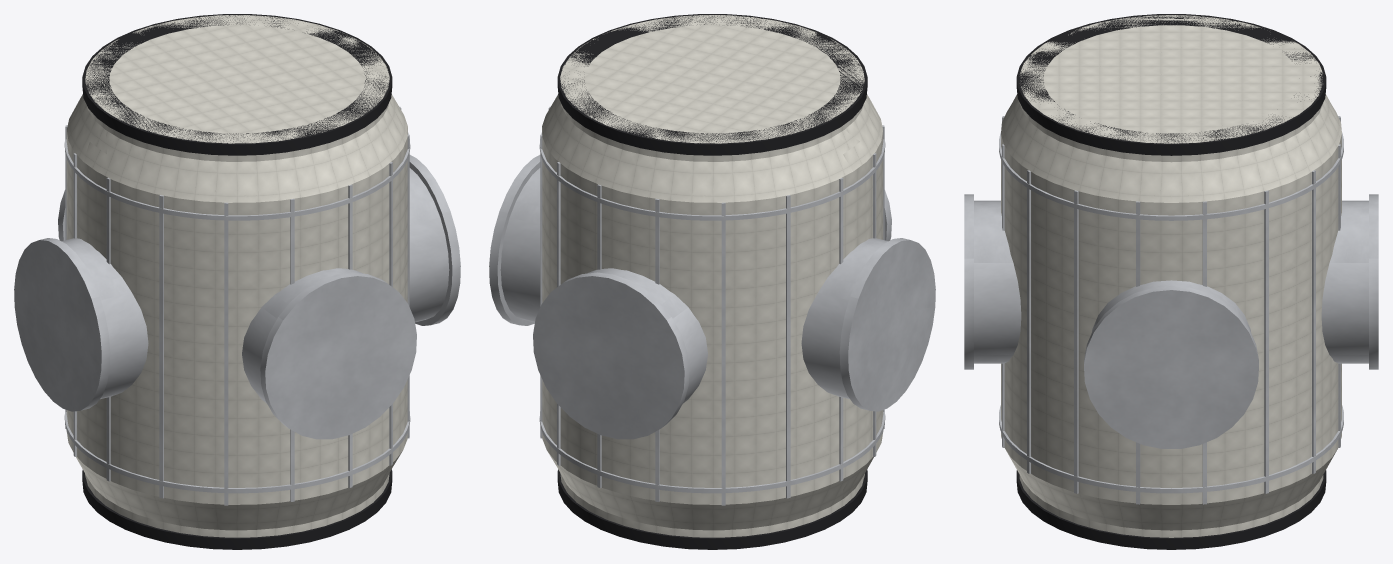
Rendered from station03_node_6port.glb.
The picture shows the model from 3 angles, left to right: view 1: azimuth 30°, elevation 25°; view 2: azimuth 150°, elevation 25°; view 3: azimuth 270°, elevation 25°; orthographic projection.
Visible parts, largest first — view 1: pressure_hull, radial_ports, end_rings, mmod_grid; view 2: pressure_hull, radial_ports, end_rings, mmod_grid; view 3: pressure_hull, radial_ports, end_rings, mmod_grid.
Part boxes in pixels (box(x1,y1,x2,y2)): pressure_hull: box(66, 15, 407, 537); radial_ports: box(14, 155, 460, 439); end_rings: box(82, 14, 392, 549); mmod_grid: box(64, 106, 410, 505); pressure_hull: box(542, 15, 883, 537); radial_ports: box(489, 155, 935, 439); end_rings: box(557, 14, 867, 549); mmod_grid: box(539, 106, 885, 505); pressure_hull: box(1001, 15, 1341, 537); radial_ports: box(964, 194, 1378, 448); end_rings: box(1016, 14, 1326, 549); mmod_grid: box(999, 116, 1343, 504).
Size of the model in its own units: 5.1 by 5.5 by 5.1.
Materials: 3 (2 with a texture image).
